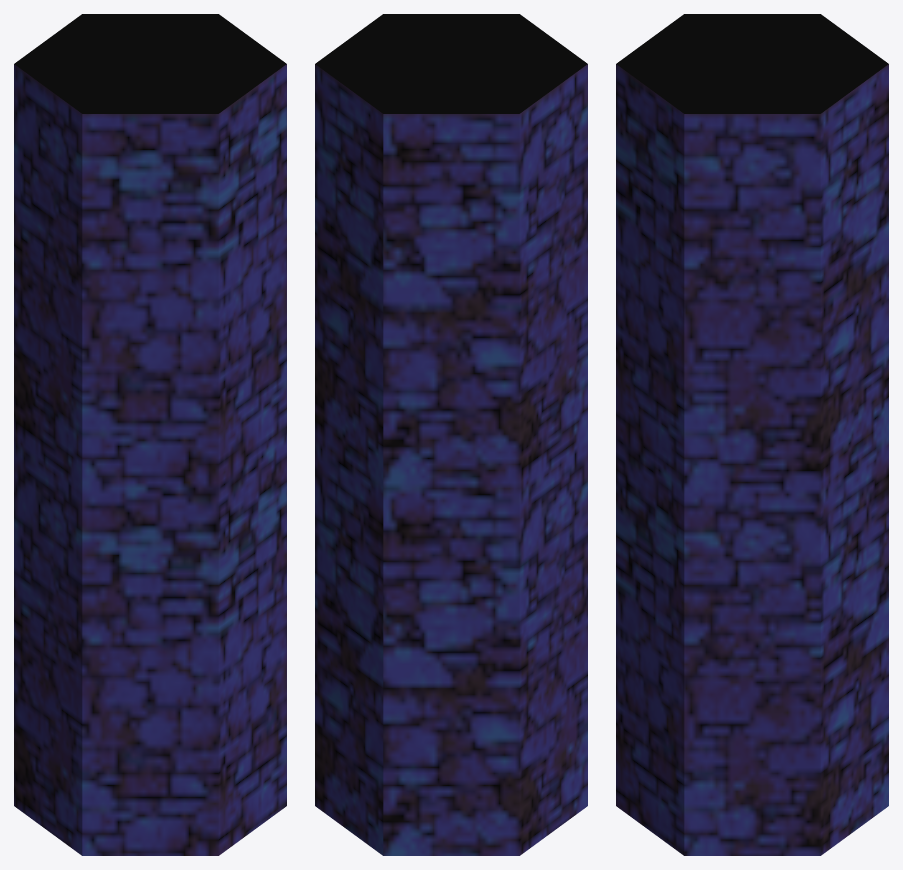
Rendered from pillar.fbx.
The picture shows the model from 3 angles, left to right: view 1: azimuth 30°, elevation 25°; view 2: azimuth 150°, elevation 25°; view 3: azimuth 270°, elevation 25°; orthographic projection.
Parts seen in each view (by area): view 1: Cylinder.002; view 2: Cylinder.002; view 3: Cylinder.002.
Boxes of the visible parts, box(x1,y1,x2,y2) form: Cylinder.002: box(14, 14, 286, 855); Cylinder.002: box(315, 14, 587, 855); Cylinder.002: box(616, 14, 888, 855).
Bounding box in the file's own units: 260 × 900 × 300.
